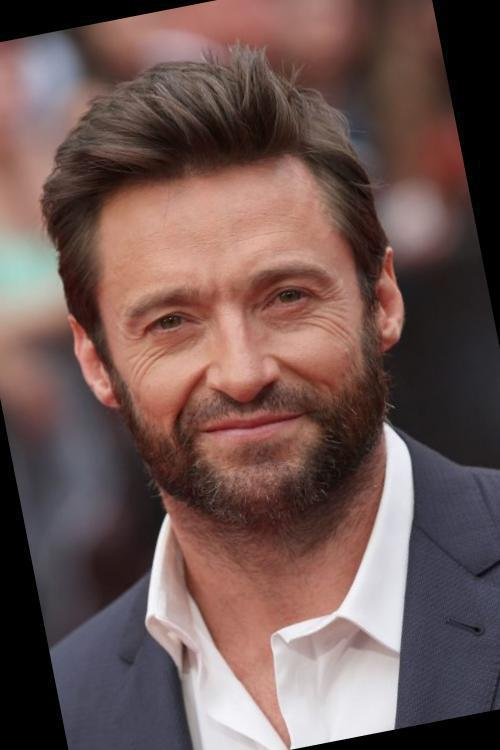Sober: (91, 180, 372, 481)
